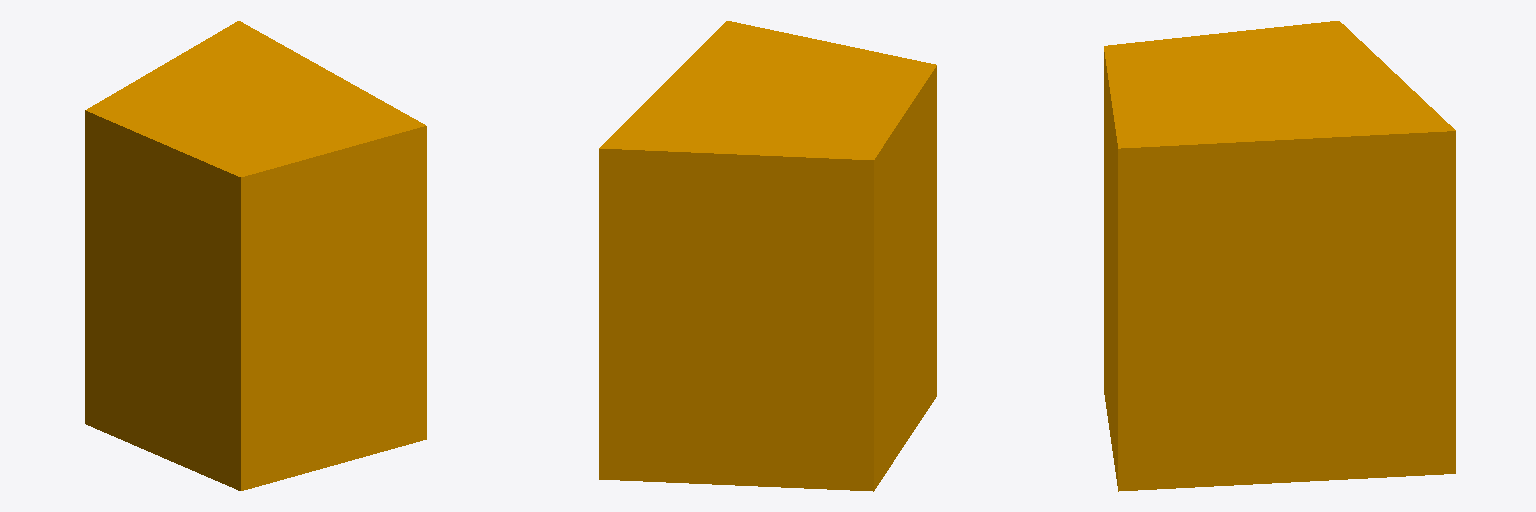
URDF robot description (object):
<?xml version="1.0"?>
<robot name="object">
  <link name="object">
    <visual>
      <origin xyz="0 0 0"/>
      <geometry>
        <mesh filename="meshes/generated/col_105.obj" scale="0.03 0.03 0.03"/>
      </geometry>
    </visual>
    <collision>
      <origin xyz="0 0 0"/>
      <geometry>
        <mesh filename="meshes/generated/col_105.obj" scale="0.03 0.03 0.03"/>
      </geometry>
    </collision>
    <inertial>
      <density value="1000.0"/>
    </inertial>
  </link>
</robot>

--- Facts derived from the render (not from the file) ---
Views: 3 orthographic renders of the robot side by side, from view 1: azimuth 30°, elevation 25°; view 2: azimuth 150°, elevation 25°; view 3: azimuth 270°, elevation 25°.
Robot: object — 1 links, 0 joints (none); root link object; default pose: every joint at zero.
Links seen in each view (by area): view 1: object; view 2: object; view 3: object.
Link boxes in pixels (x1,y1,x2,y2): object: (85,21,426,490); object: (599,21,936,491); object: (1104,21,1455,491).
Size in the robot's own frame: 0.0481 by 0.056 by 0.06 metres.
1 mesh visuals loaded from 1 distinct referenced files (1 OBJ).
